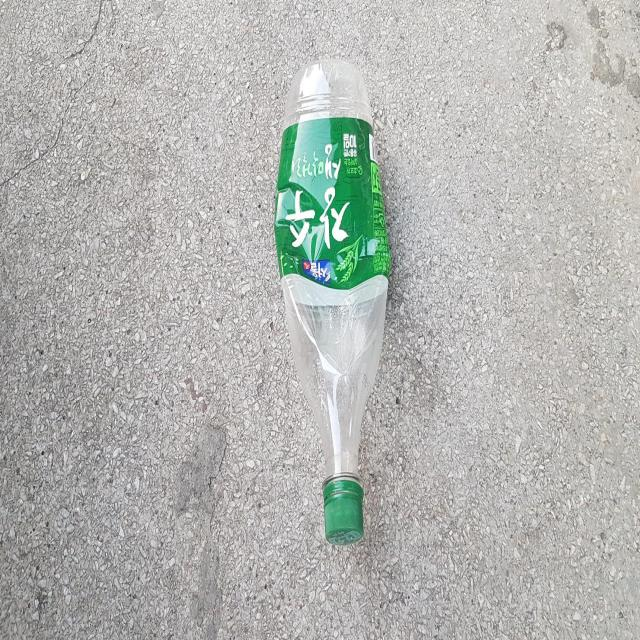plastic: (274, 58, 391, 545)
